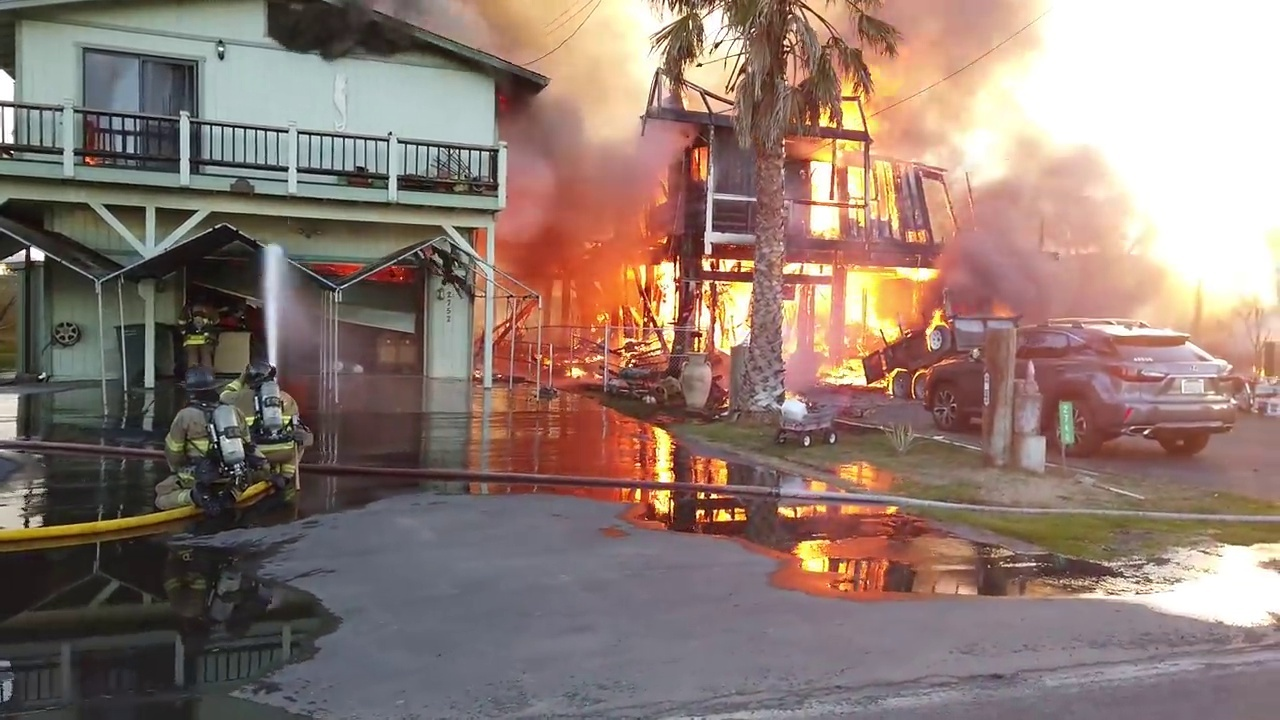fire: (617, 210, 949, 573), (807, 158, 897, 203), (813, 204, 839, 237), (690, 139, 708, 180), (1, 261, 13, 275), (84, 155, 100, 163)
smoke: (928, 1, 1279, 322), (260, 1, 653, 153), (506, 158, 617, 270), (622, 160, 687, 211)
